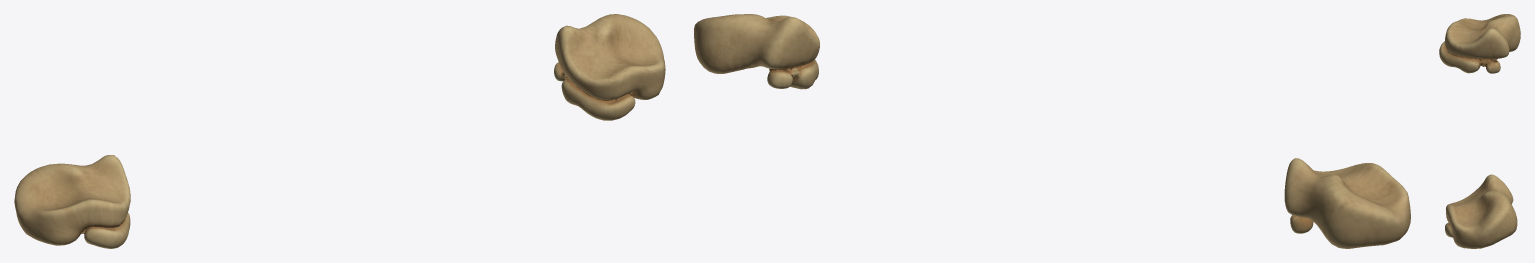
Rendered from Tarsals.glb.
3 renders of one model, left to right at view 1: azimuth 30°, elevation 25°; view 2: azimuth 150°, elevation 25°; view 3: azimuth 270°, elevation 25°, orthographic. The views are drawn at different scales.
Parts seen in each view (by area): view 1: ZBrush_defualt_group.007; view 2: ZBrush_defualt_group.007; view 3: ZBrush_defualt_group.007.
Part boxes in pixels (x1,y1,x2,y2): ZBrush_defualt_group.007: (14, 14, 665, 248); ZBrush_defualt_group.007: (694, 14, 1410, 248); ZBrush_defualt_group.007: (1439, 14, 1520, 248).
Size of the model in its own units: 332 by 40.28 by 51.73.
Materials: 1 (1 with a texture image).
